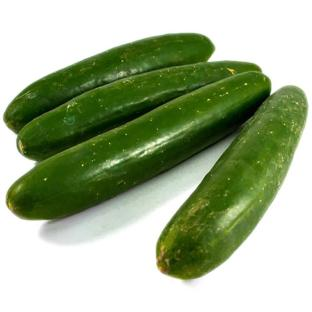Cucumber: (7, 72, 270, 219), (157, 87, 307, 279), (17, 61, 260, 160), (4, 34, 214, 132)
